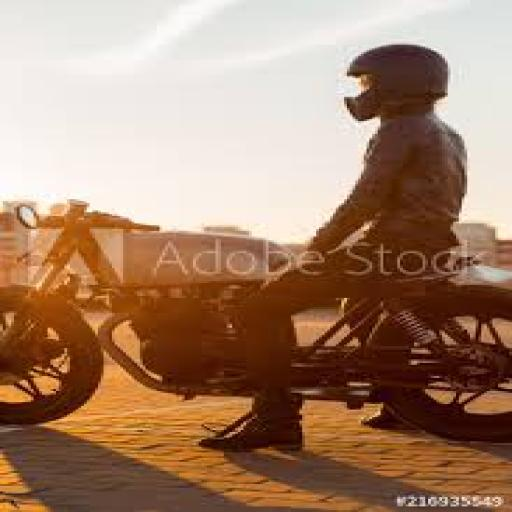helmet: (0, 195, 509, 445), (196, 41, 467, 451), (342, 41, 450, 119)
